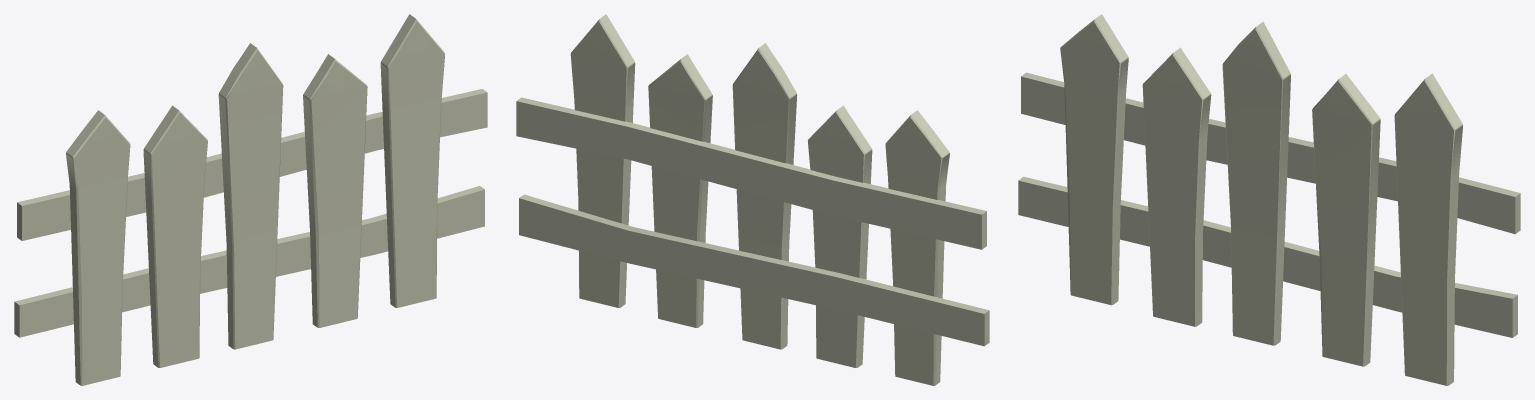
Rendered from SM_fence.fbx.
3 renders of one model, left to right at view 1: azimuth 30°, elevation 25°; view 2: azimuth 150°, elevation 25°; view 3: azimuth 330°, elevation 25°, orthographic. The views are drawn at different scales.
Parts seen in each view (by area): view 1: SM_fence; view 2: SM_fence; view 3: SM_fence.
Boxes of the visible parts, left/top/right/bottom form: SM_fence: left=14, top=14, right=487, bottom=385; SM_fence: left=516, top=14, right=989, bottom=385; SM_fence: left=1018, top=14, right=1520, bottom=385.
Size of the model in its own units: 143 by 86.48 by 6.62.
